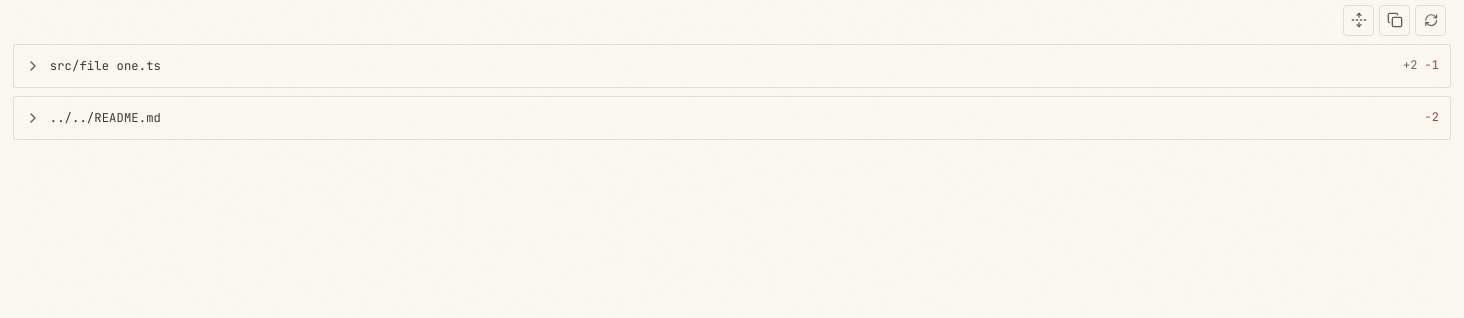
it: GitDiffModal › summarizes each file with cwd-relative paths and nonzero line counts
Expected: the text "+2" is shown, [1403,57,1417,75]
Expected: the text "-1" is shown, [1425,57,1439,75]
Click the button with aria-label "Expand src/file one.ts" at (105, 66), box [14,45,1450,87]
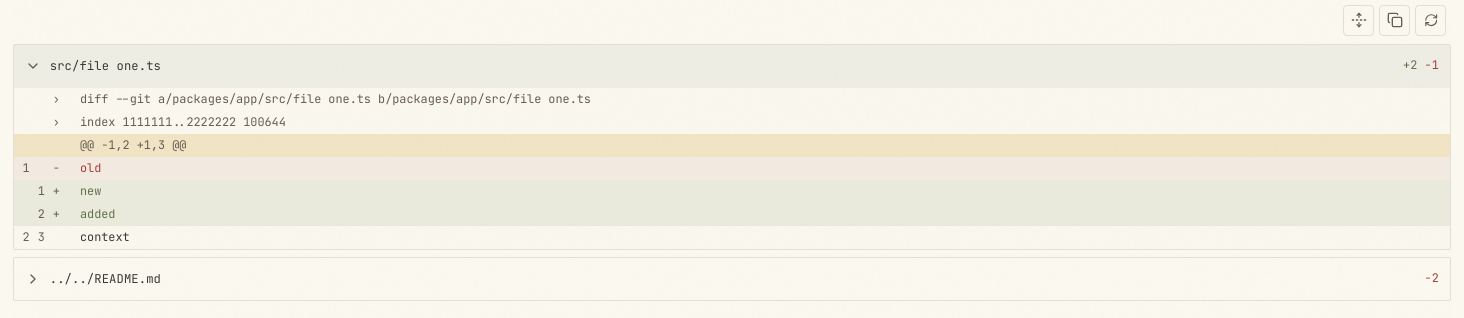
Now the text "new" is shown, box [80,183,101,199]
Now the text "added" is shown, box [80,206,116,222]
